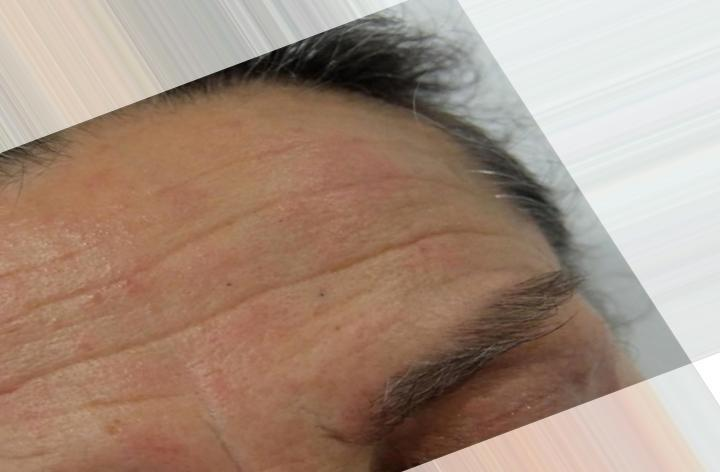Contact Dermatitis: (15, 190, 465, 361)
